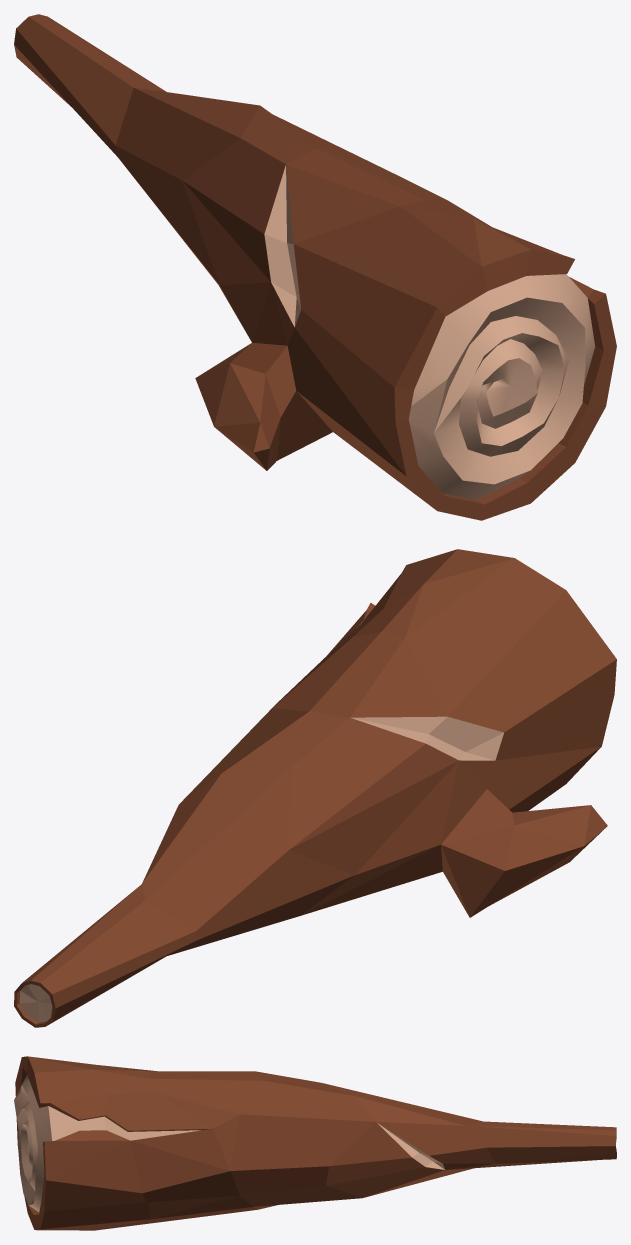
Rendered from Stick.fbx.
3 views of the same model, one above another, from view 1: azimuth 30°, elevation 25°; view 2: azimuth 150°, elevation 25°; view 3: azimuth 270°, elevation 25° (orthographic). The views are drawn at different scales.
Visible parts, largest first — view 1: Stick; view 2: Stick; view 3: Stick.
Part boxes in pixels (x1,y1,x2,y2): Stick: (14, 14, 616, 520); Stick: (14, 549, 616, 1027); Stick: (14, 1056, 616, 1230).
Bounding box in the file's own units: 79.51 × 62.16 × 209.
